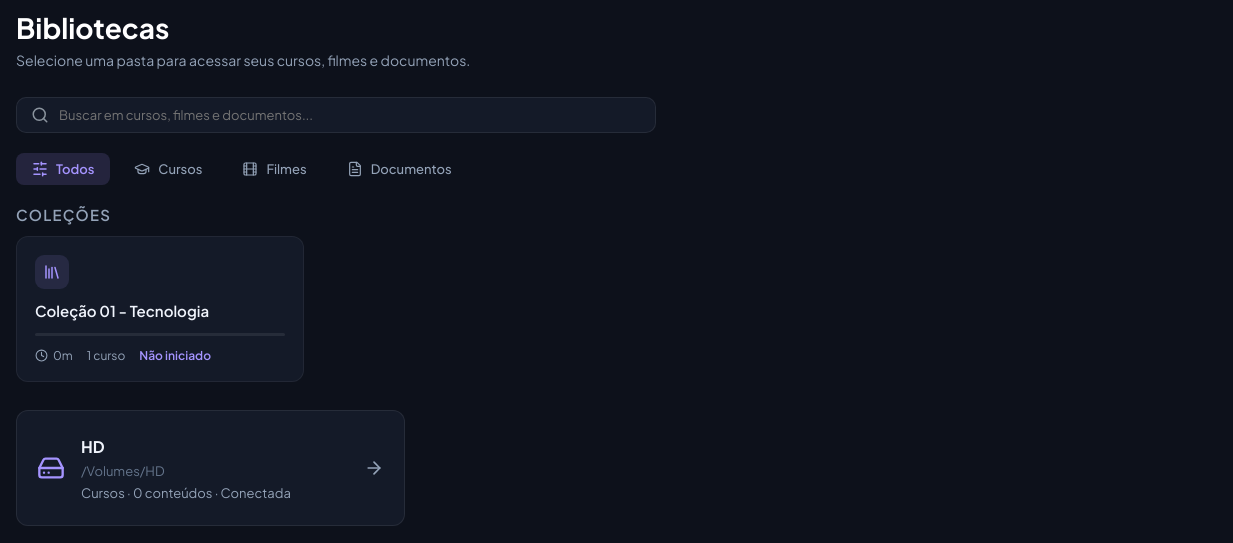
LibraryView — detalhe da coleção › mostra a listagem de módulos quando a coleção tem um único curso
Click the heading "Coleção 01 - Tecnologia".
click(122, 311)  # box [35,301,209,321]
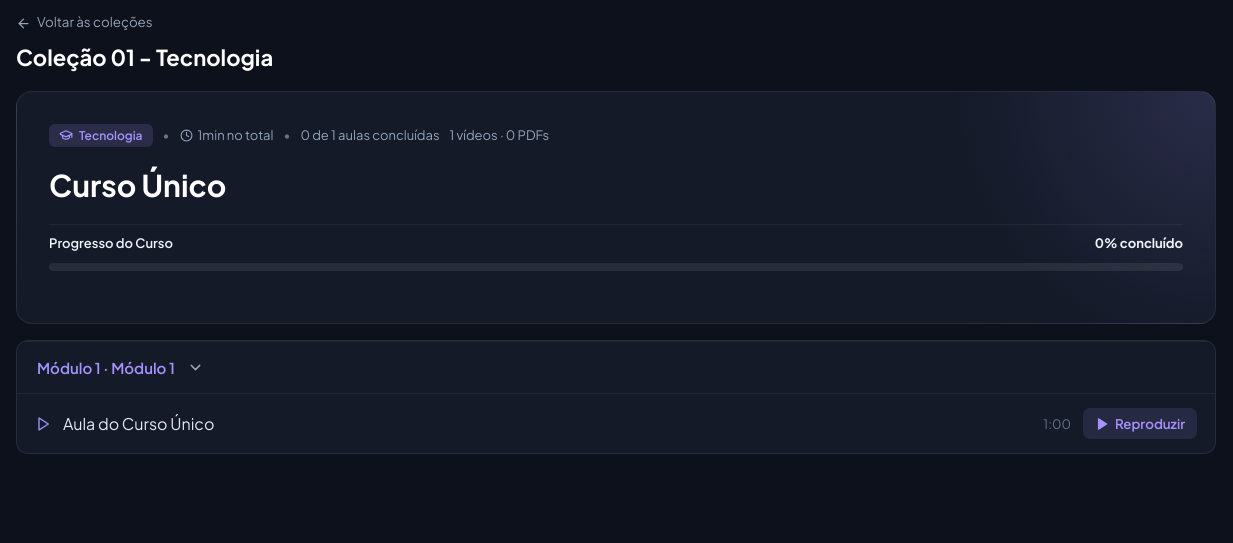
Result: the text "Aula do Curso Único" is shown at [63,413,214,434]
